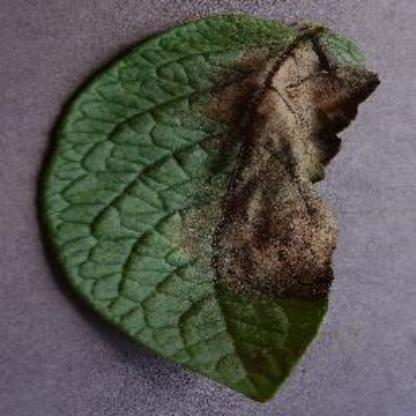Late-Blight: (34, 5, 384, 403)
